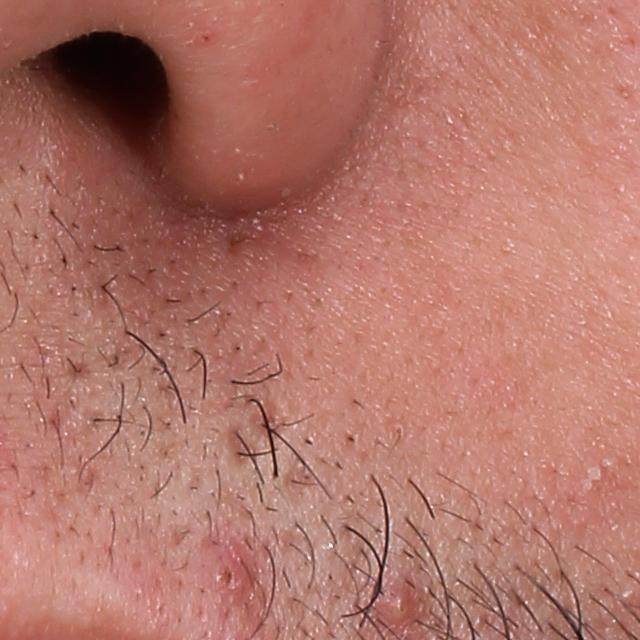atrophic_scar: (280, 452, 317, 519), (225, 426, 258, 470)
pustule: (379, 584, 415, 631)
